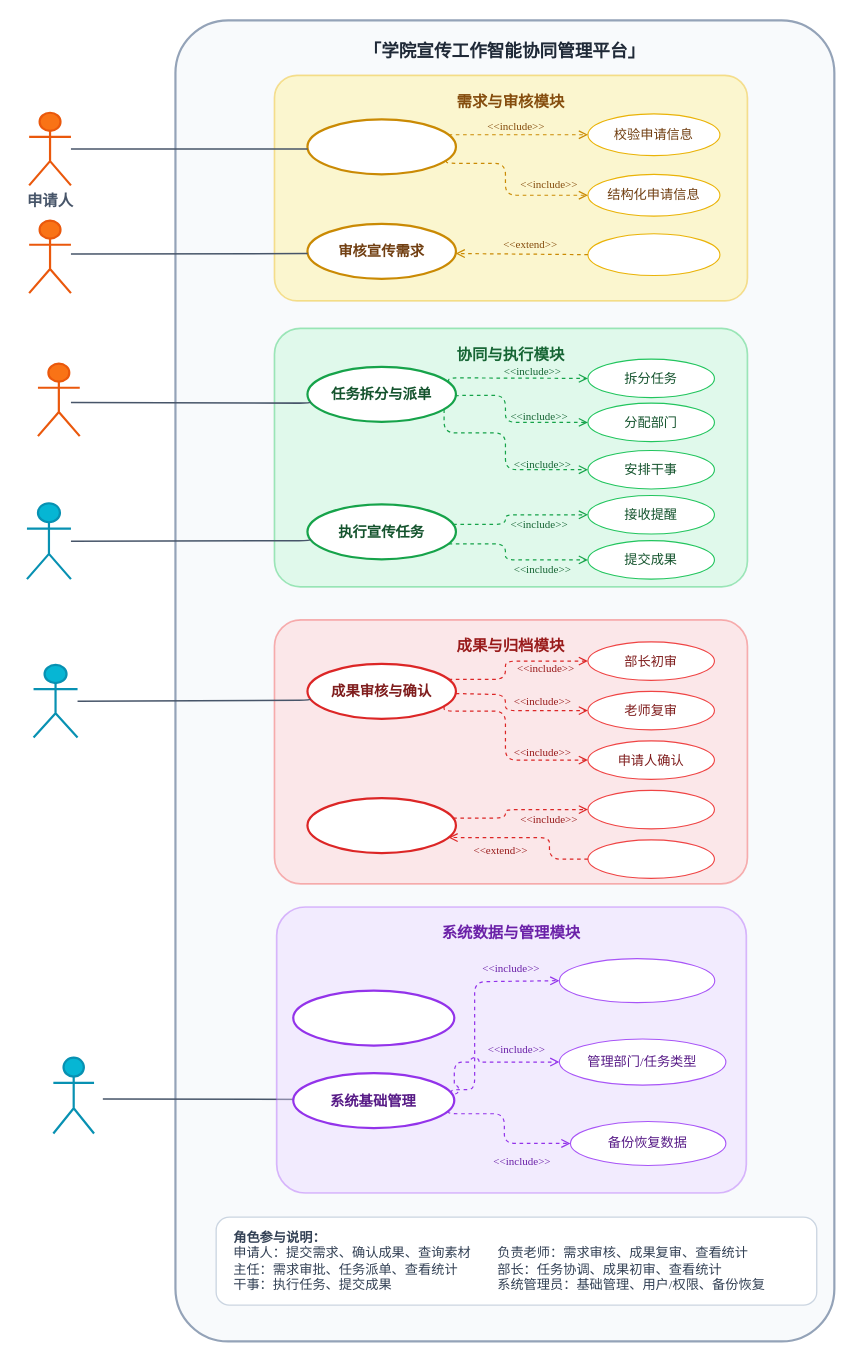
Some shapes in this 854 by 1361 pixel diagram are drawn without their labels. Here are the shapes that lost their labels. From the top down, the centre of each, then its label:
At [381,146]: "提交宣传需求".
At [50,256]: "负责老师".
At [653,254]: "退回补充/驳回".
At [58,399]: "主任".
At [48,541]: "干事".
At [55,700]: "部长".
At [381,825]: "素材归档与查询".
At [650,809]: "归档成果".
At [650,858]: "查询素材".
At [636,980]: "管理用户/权限".
At [373,1017]: "查看数据统计".
At [73,1095]: "系统管理员".
